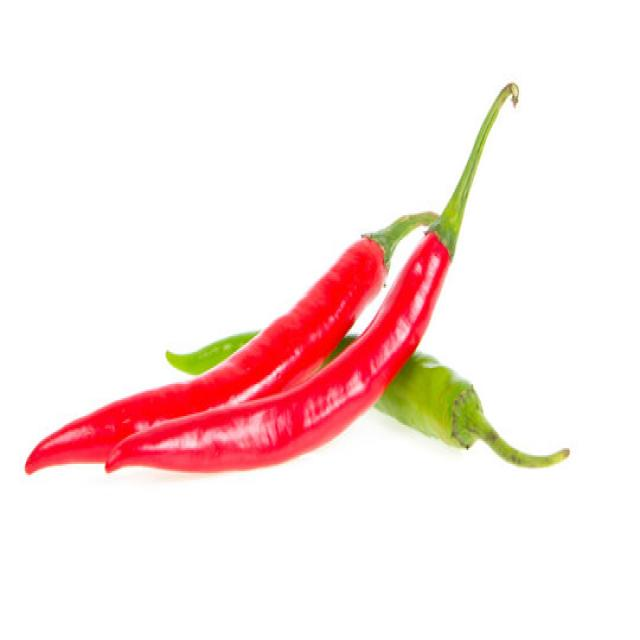Chilli: (24, 80, 563, 476)
